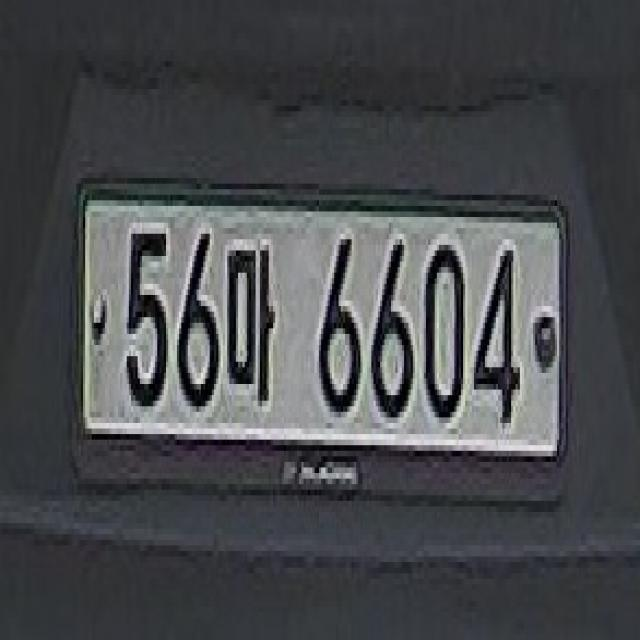0: (422, 227, 468, 420)
4: (470, 235, 522, 429)
5: (120, 220, 170, 412)
6: (312, 224, 365, 418), (367, 224, 417, 416), (173, 222, 223, 412)
license_plate: (72, 164, 570, 503)
ma: (227, 220, 280, 416)
